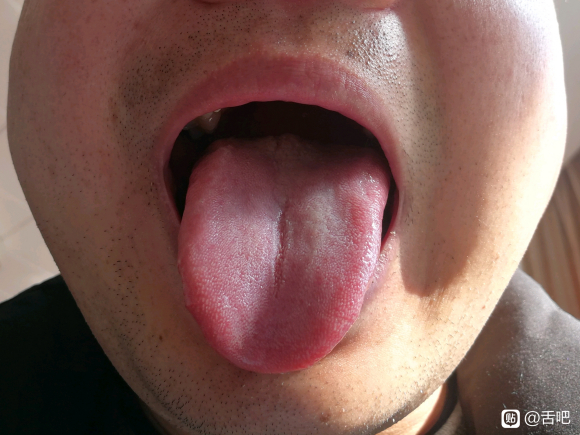hongshe: (178, 130, 390, 373)
liewenshe: (264, 209, 289, 300)
